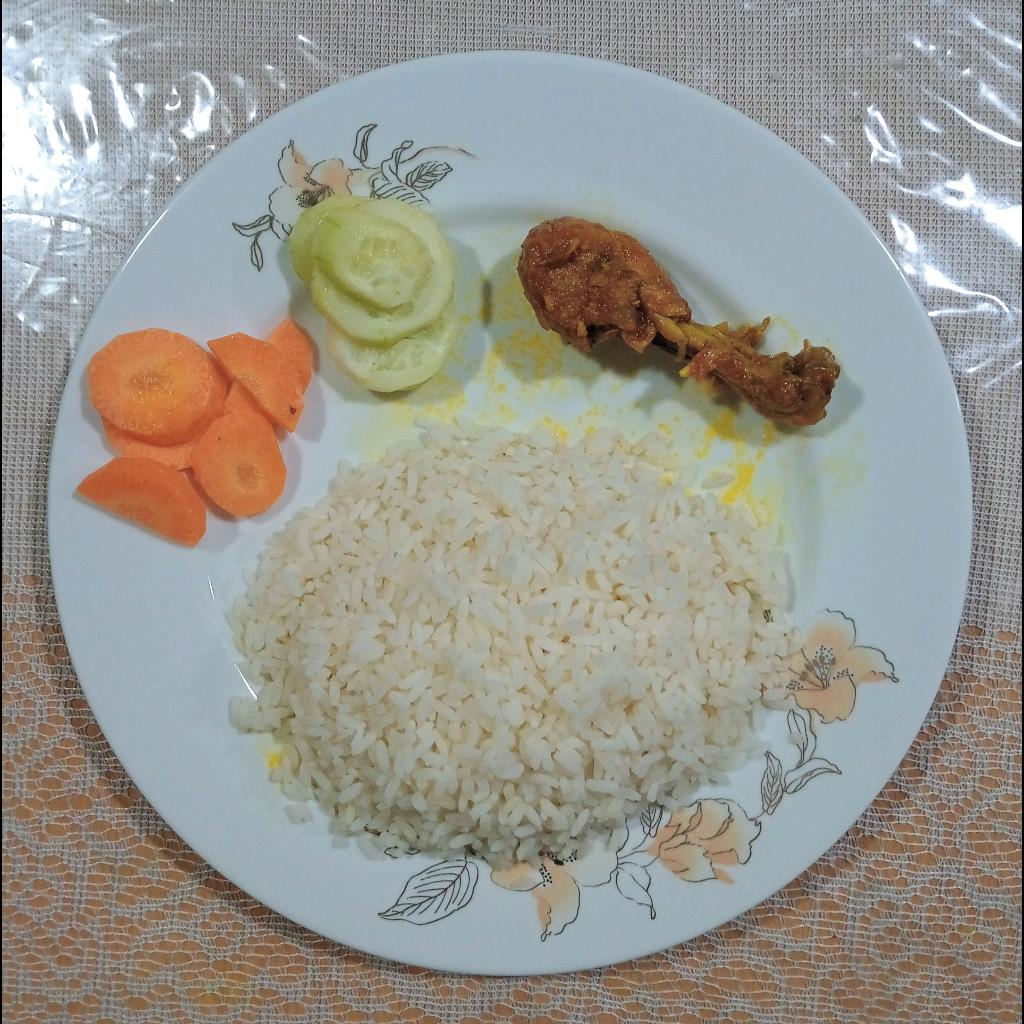carrot: (73, 316, 320, 548)
chicken: (516, 219, 842, 427)
cucumber: (291, 195, 458, 392)
rice: (224, 417, 798, 871)
